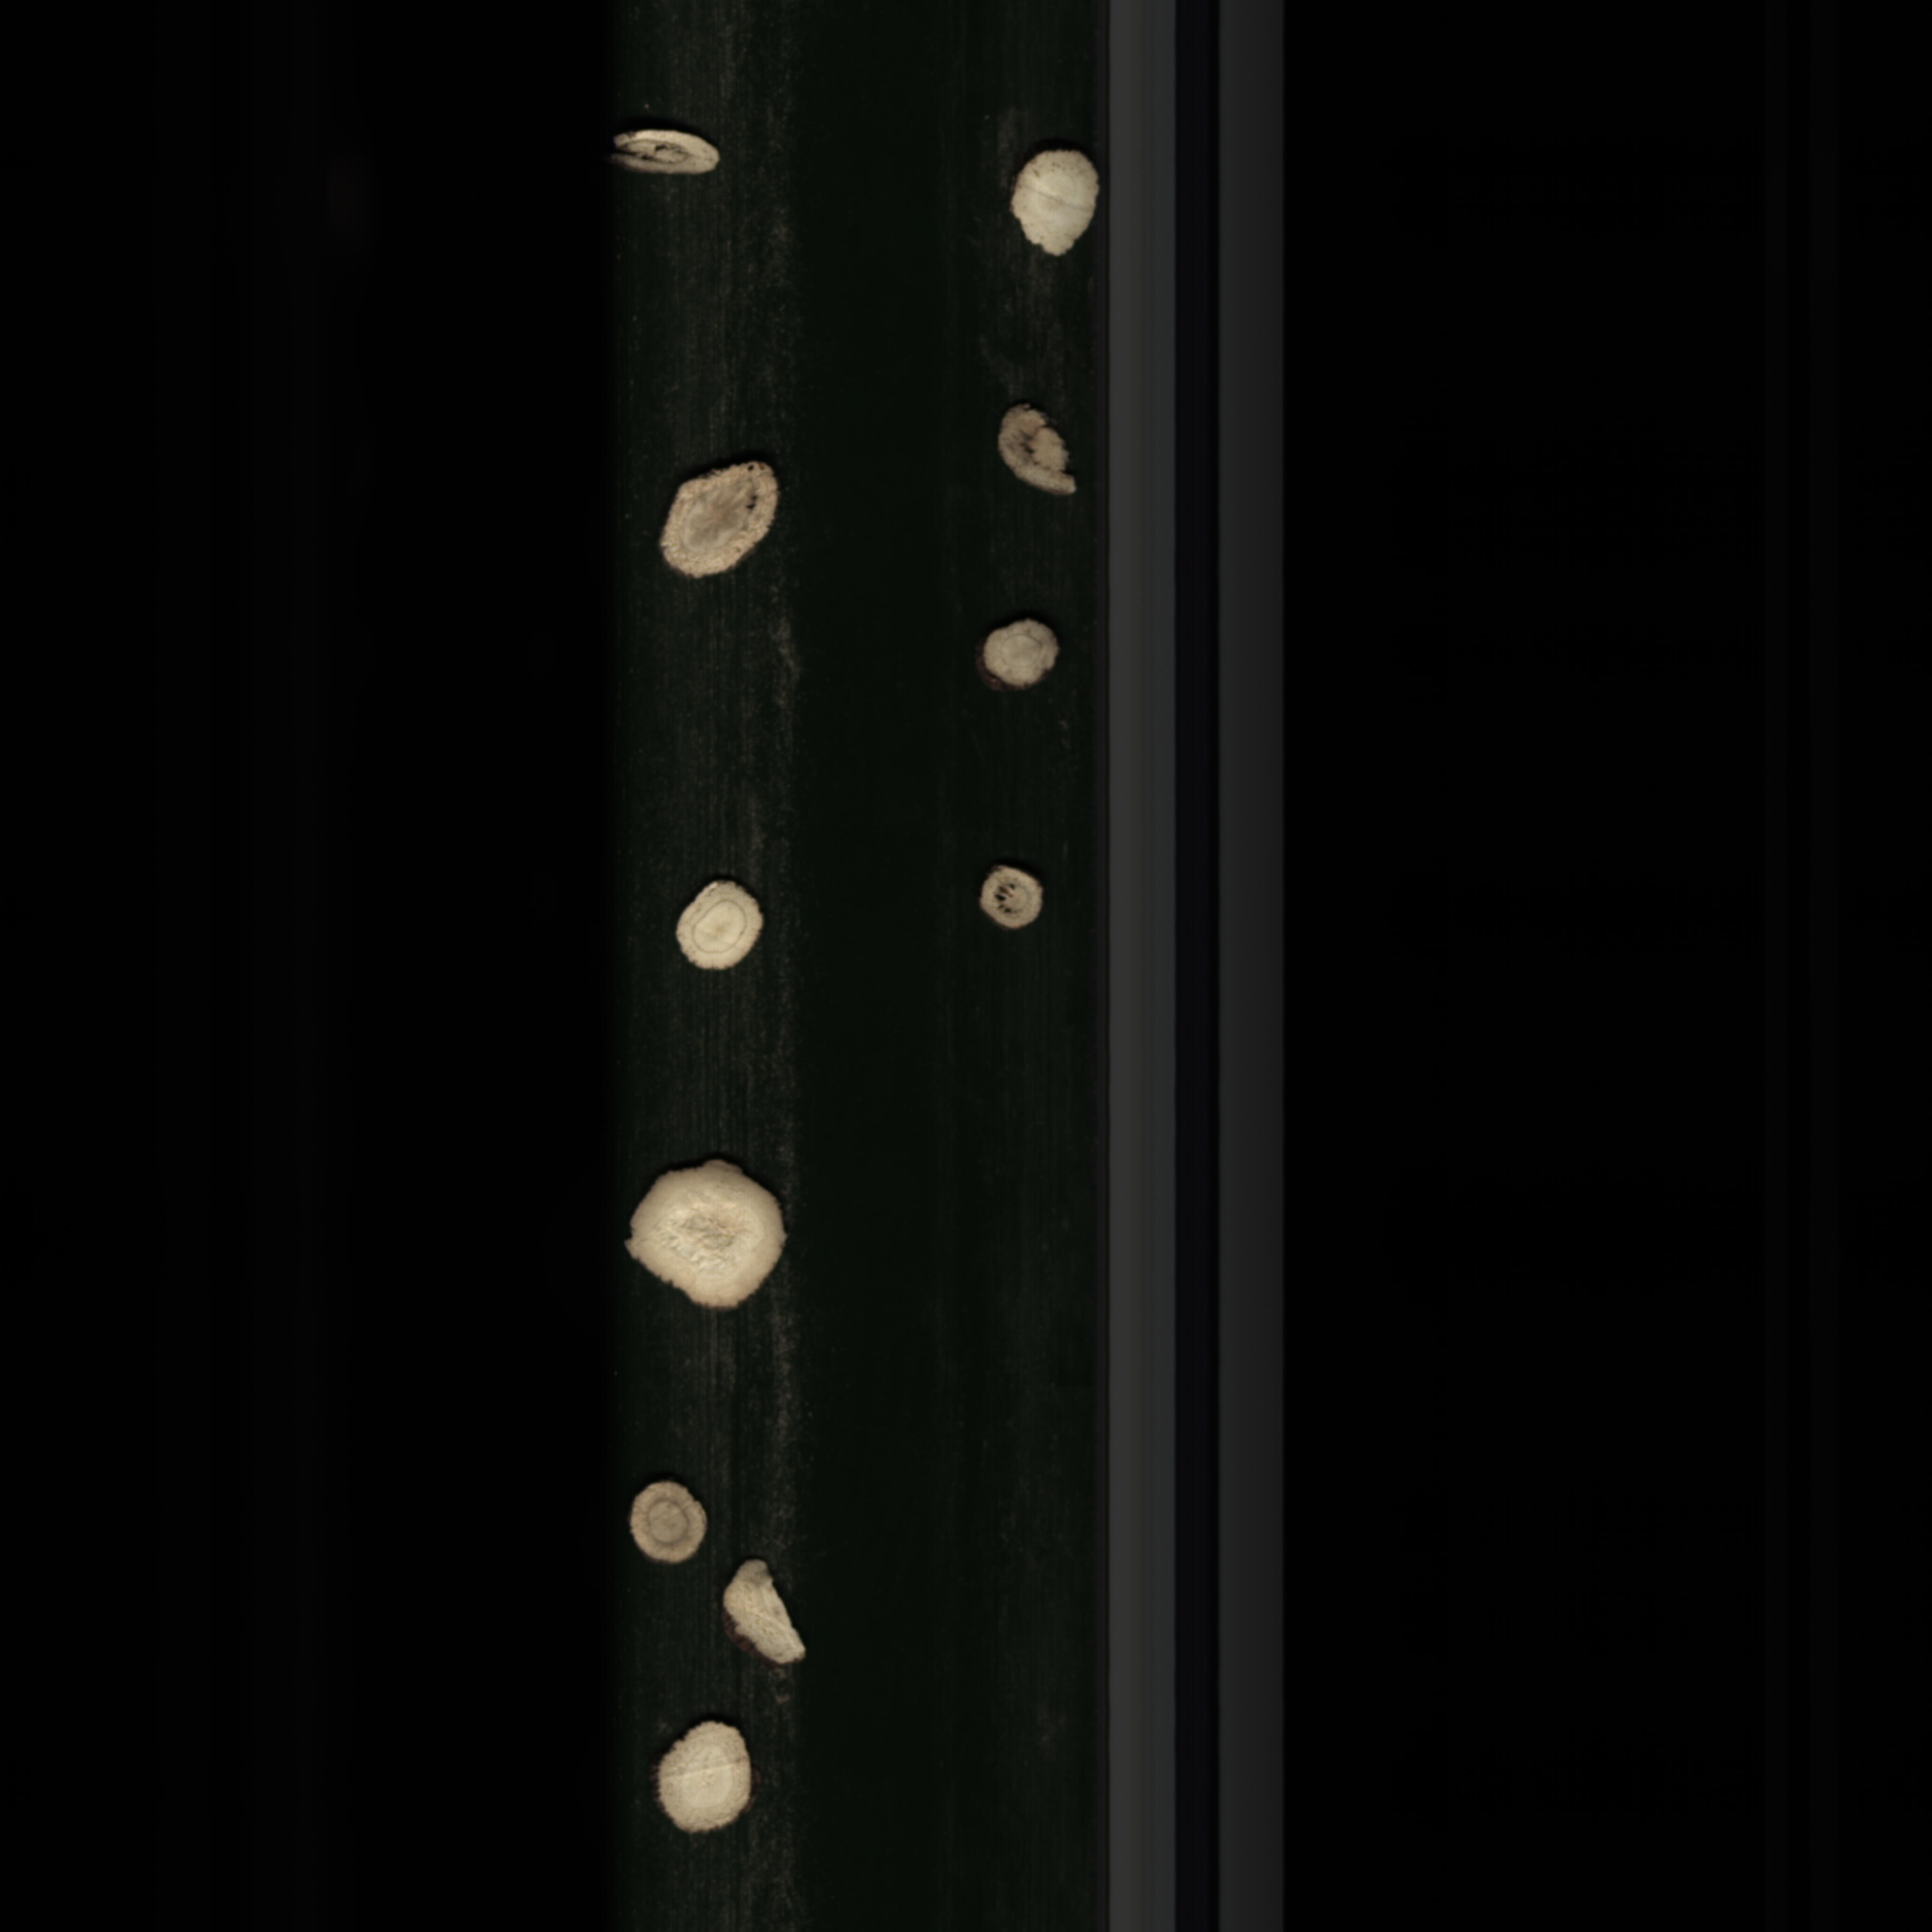debris: (718, 1553, 819, 1677), (984, 396, 1086, 506)
hole: (966, 860, 1053, 932)
moldy: (612, 124, 732, 186)
